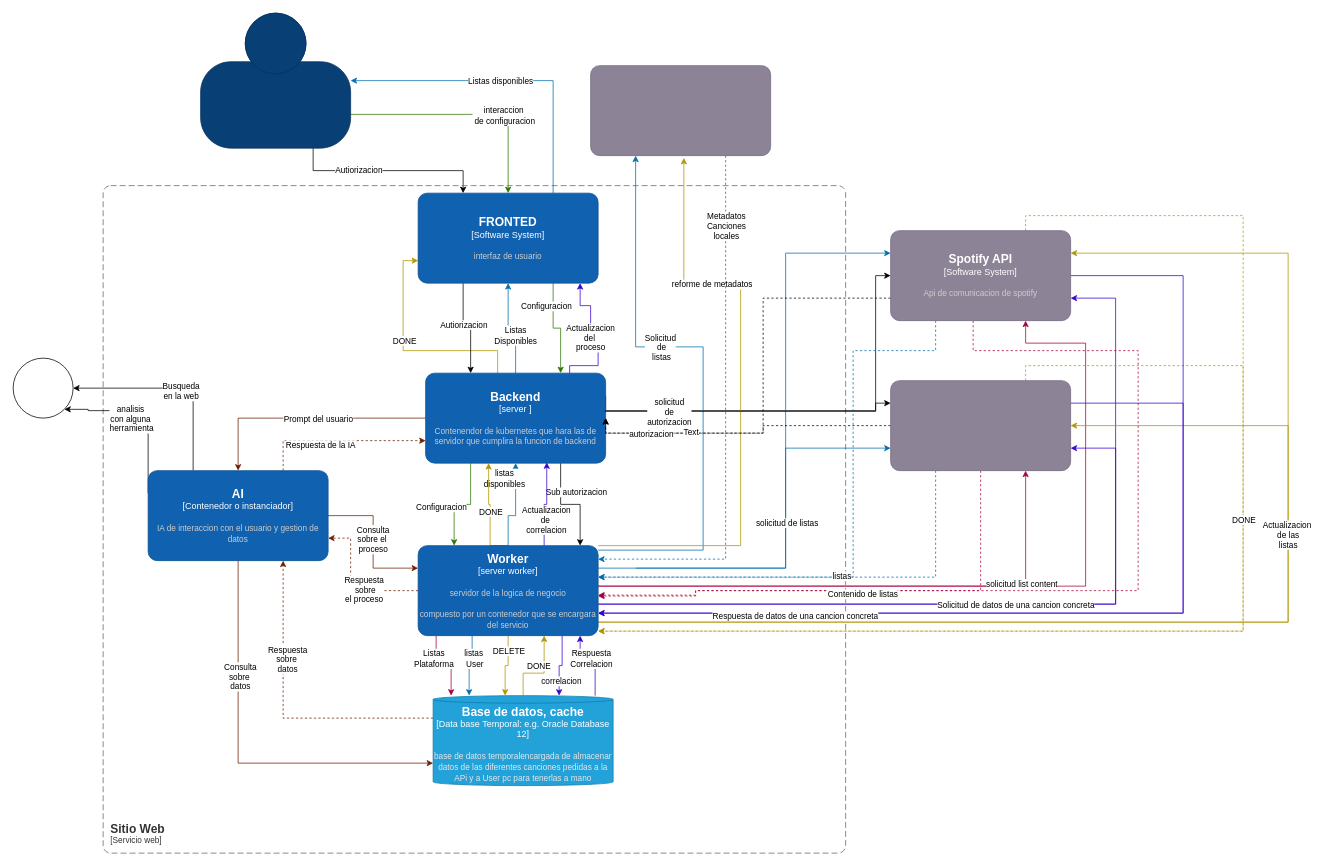
The diagram is 1326 pixels wide and 866 high, and some of its shapes have lost their labels. Here are the shapes that lost their labels. From the top down, the centre of each, then its label:
point 275,80: User [Person] usuario
point 680,110: User Pc [Cliente de kivy] Computadora del usuario
point 42,387: no definido pero la idea es que suceda
point 980,425: Youtube APi [Software System] Api de youtube
